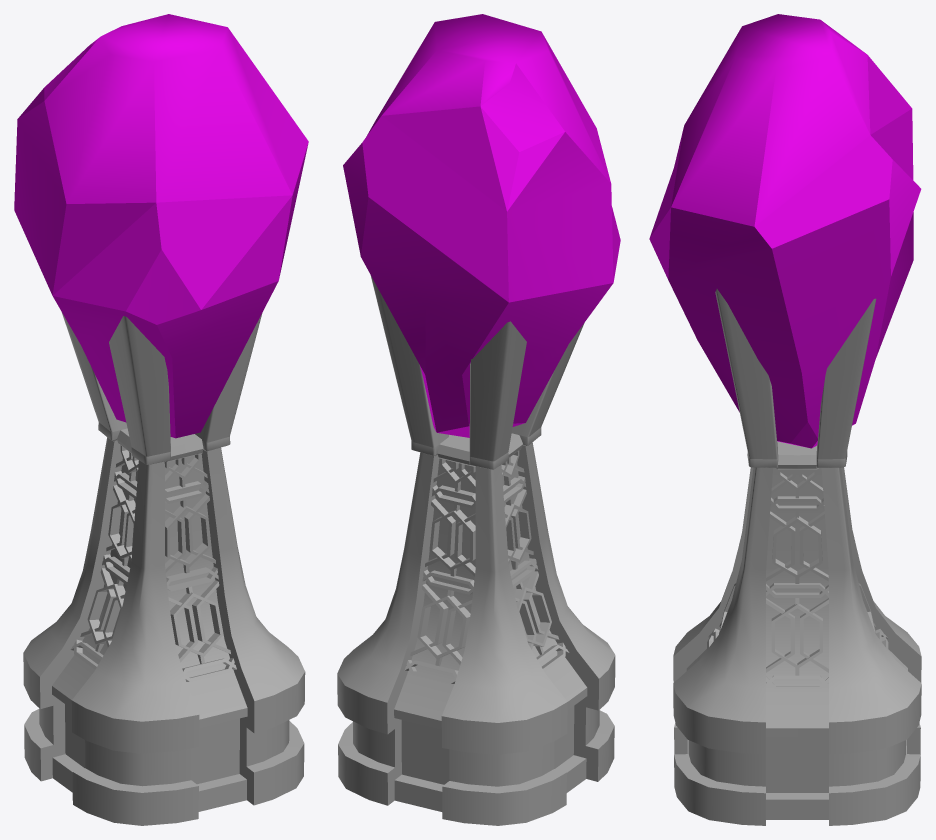
Rendered from Statue.fbx.
3 views of the same model, side by side, from view 1: azimuth 30°, elevation 25°; view 2: azimuth 150°, elevation 25°; view 3: azimuth 270°, elevation 25° (orthographic).
Parts seen in each view (by area): view 1: Crystal, MineRoom:pCube45, MineRoom:mesh_pillar_MineRoom:pCube124; view 2: MineRoom:pCube45, Crystal, MineRoom:mesh_pillar_MineRoom:pCube124; view 3: Crystal, MineRoom:pCube45, MineRoom:mesh_pillar_MineRoom:pCube124.
Part boxes in pixels (x1,y1,x2,y2): Crystal: (14, 14, 308, 438); MineRoom:pCube45: (23, 312, 305, 825); MineRoom:mesh_pillar_MineRoom:pCube124: (70, 445, 236, 681); MineRoom:pCube45: (337, 275, 615, 825); Crystal: (343, 14, 620, 437); MineRoom:mesh_pillar_MineRoom:pCube124: (404, 450, 569, 683); Crystal: (649, 14, 921, 448); MineRoom:pCube45: (673, 289, 921, 825); MineRoom:mesh_pillar_MineRoom:pCube124: (707, 469, 888, 689).
Size of the model in its own units: 0.9508 by 2.63 by 0.8908.
